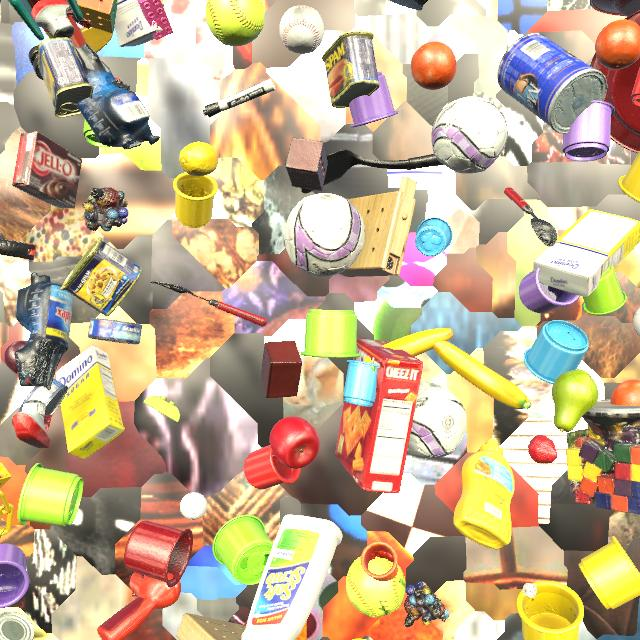ycb_002_master_chef_can: (498, 33, 607, 134)
ycb_003_cracker_box: (335, 338, 423, 493)
ycb_004_sugar_box: (533, 209, 640, 298), (56, 345, 125, 459), (114, 0, 167, 47)
ycb_005_tomato_soup_can: (0, 611, 35, 640), (244, 619, 248, 626)
ycb_006_mustard_bottle: (453, 438, 515, 549)
ycb_007_tuna_fish_can: (18, 378, 68, 415), (88, 318, 143, 345)
ycb_008_pudding_box: (12, 131, 82, 209)
ycb_010_potted_meat_can: (60, 237, 143, 317), (38, 37, 94, 118), (322, 30, 380, 108)
ycb_011_banana: (433, 341, 531, 409), (364, 328, 454, 371)
ycb_012_strawberry: (528, 435, 557, 463)
ycb_013_apple: (269, 417, 320, 469)
ycb_014_lemon: (179, 142, 218, 176)
ycb_016_pear: (552, 369, 598, 432)
ycb_017_orange: (595, 19, 640, 70), (411, 42, 457, 90), (610, 380, 640, 406)
ycb_018_plum: (4, 341, 27, 374)
